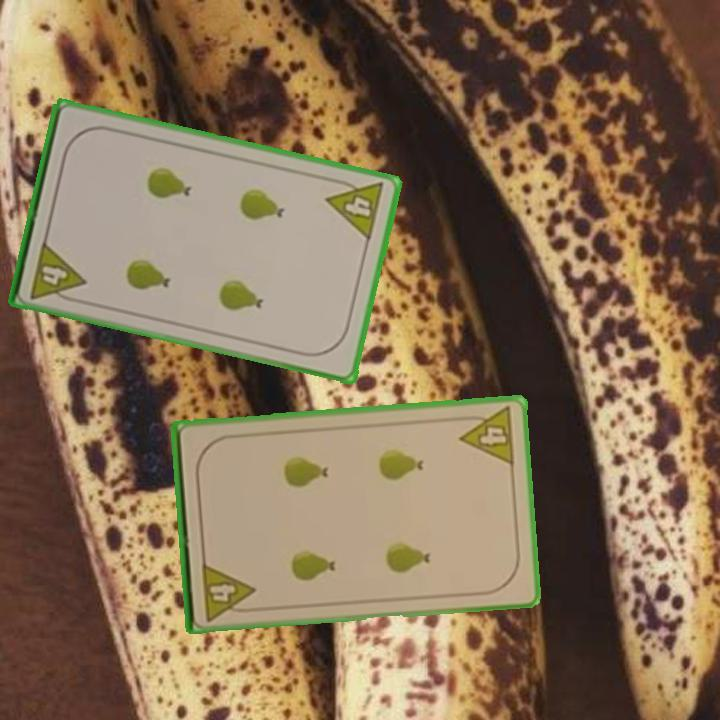4p: (323, 173, 388, 244), (27, 237, 88, 306), (455, 403, 518, 468), (198, 559, 258, 624)
